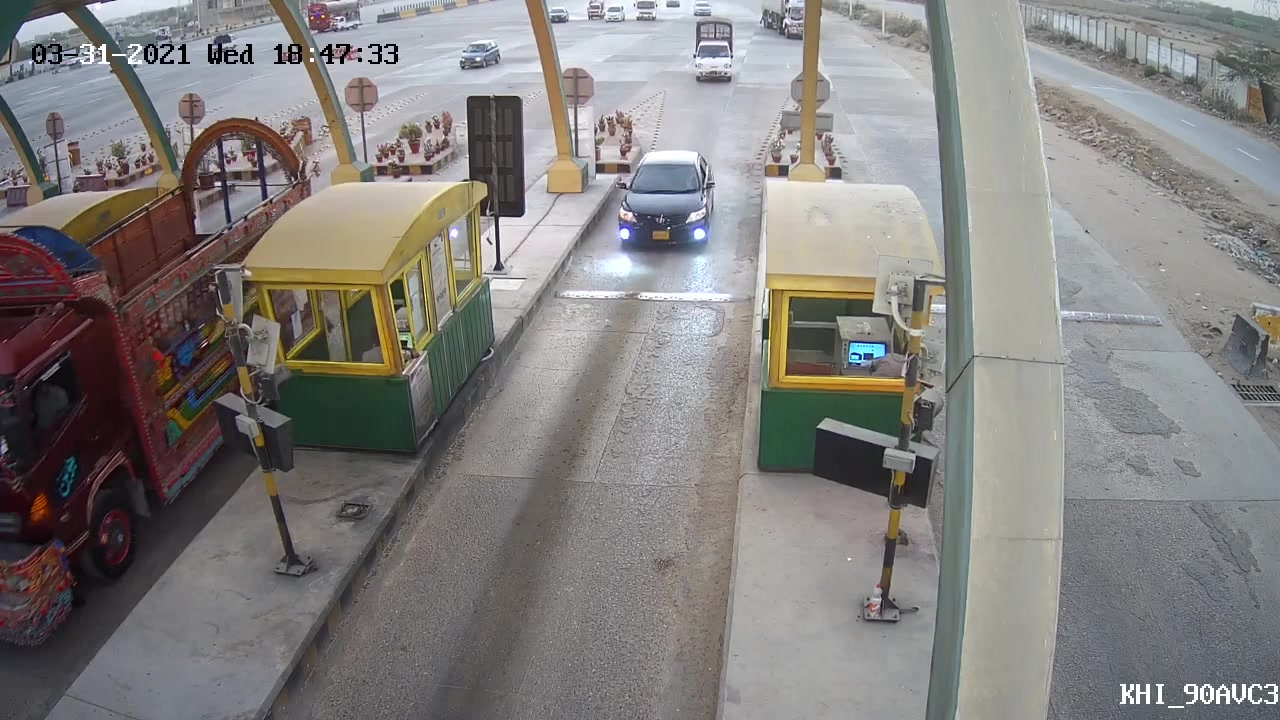F1: (605, 139, 729, 265)
